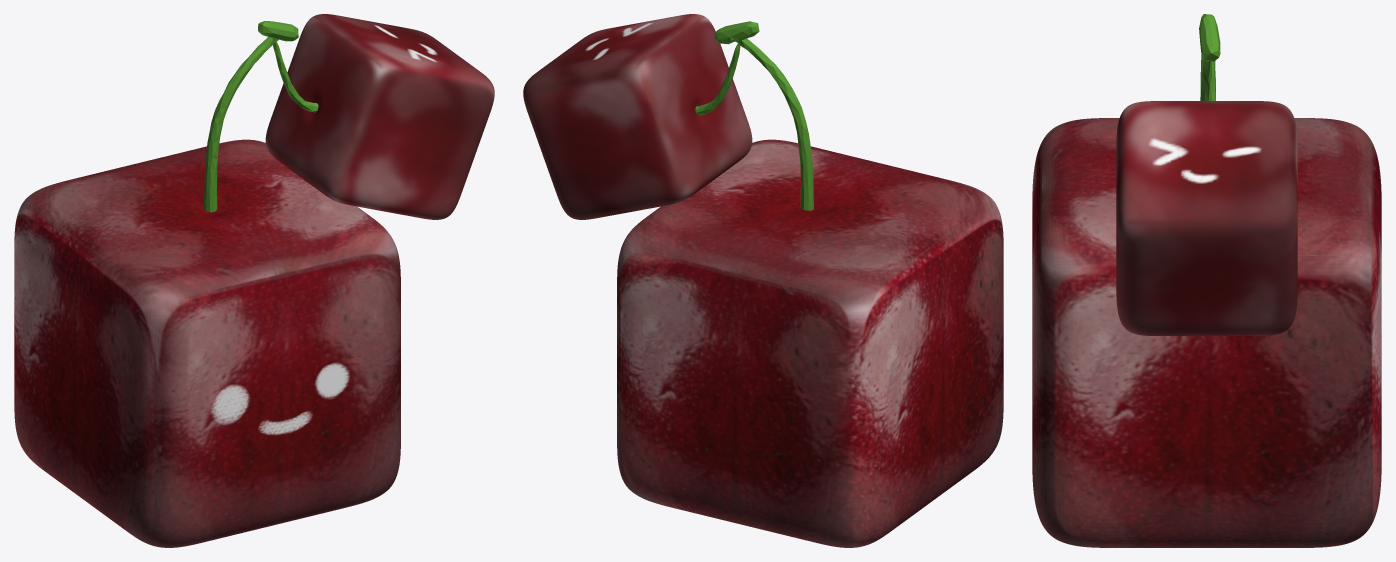
File: Cherry.glb
The picture shows the model from 3 angles, left to right: view 1: azimuth 30°, elevation 25°; view 2: azimuth 150°, elevation 25°; view 3: azimuth 270°, elevation 25°; orthographic projection. The views are drawn at different scales.
Visible parts, largest first — view 1: 상자_1_상자, 상자_1, 튜브_튜브; view 2: 상자_1_상자, 상자_1, 튜브_튜브; view 3: 상자_1_상자, 상자_1, 튜브_튜브.
Boxes of the visible parts, box(x1,y1,x2,y2) form: 상자_1_상자: box(14, 139, 400, 547); 상자_1: box(265, 14, 494, 219); 튜브_튜브: box(204, 21, 318, 212); 상자_1_상자: box(617, 139, 1003, 547); 상자_1: box(523, 14, 752, 219); 튜브_튜브: box(695, 21, 813, 210); 상자_1_상자: box(1032, 118, 1381, 547); 상자_1: box(1116, 101, 1297, 335); 튜브_튜브: box(1199, 14, 1220, 100).
Size of the model in its own units: 1.46 by 1.61 by 1.
3 materials, 2 textured.
